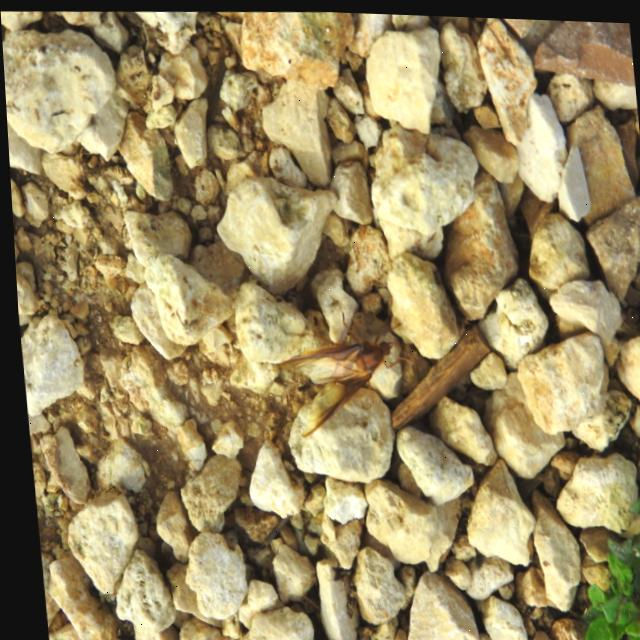Alive-Male-Alate: (268, 288, 415, 439)
